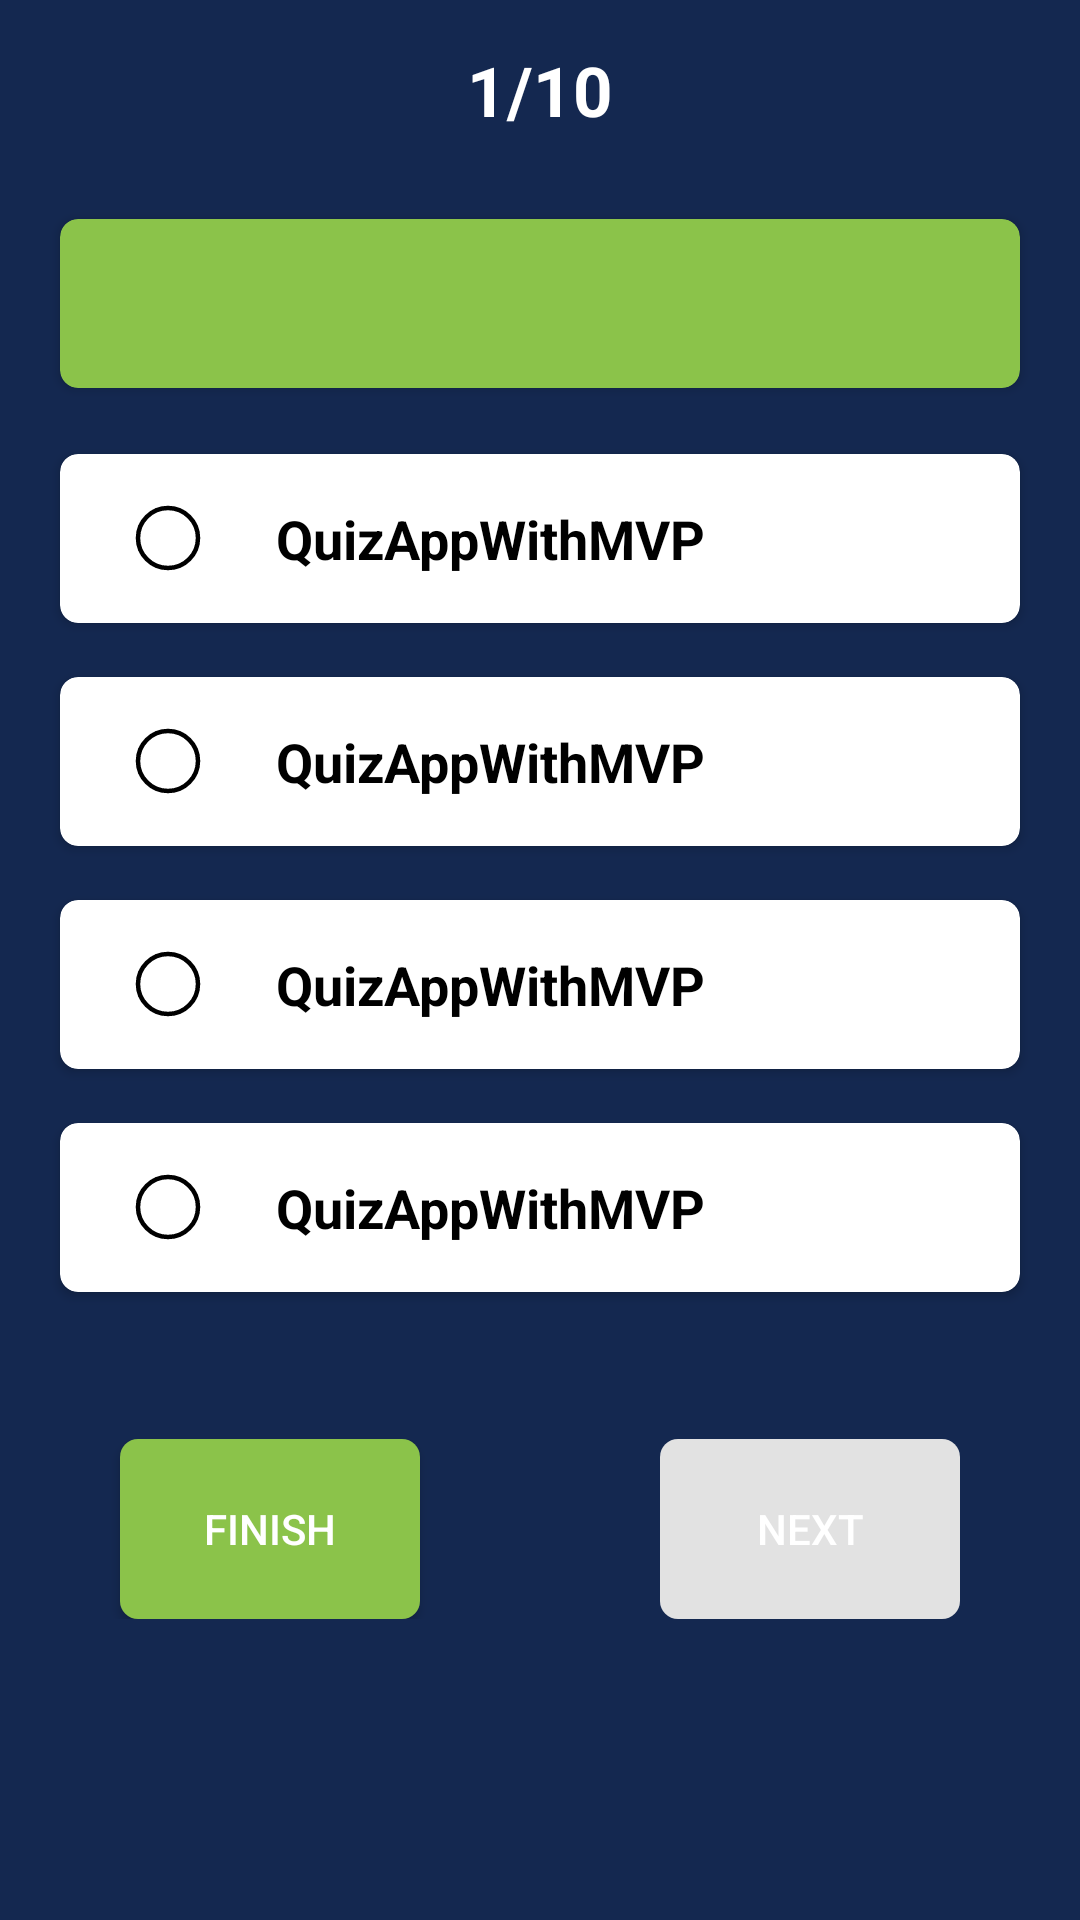

Where icons sit on this 1080x1920 app screen, as (x1, y1, x2, y2):
uncheck: (135, 505, 201, 571), (135, 728, 201, 794), (135, 951, 201, 1017), (135, 1174, 201, 1240)
